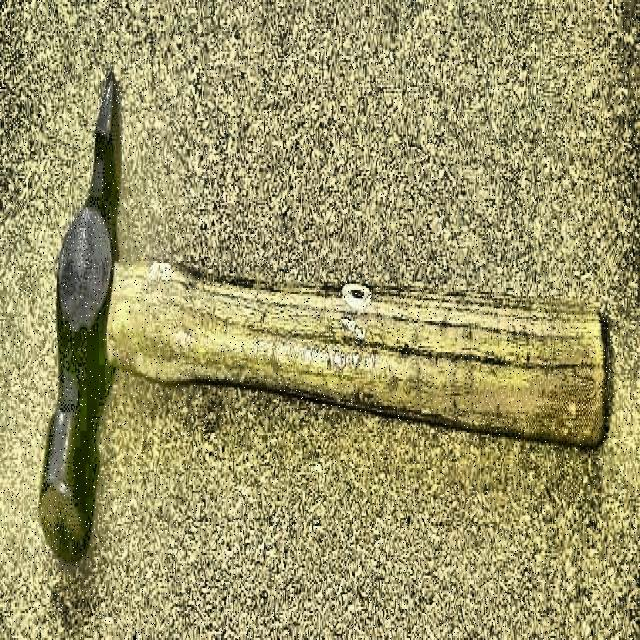hammer: (37, 77, 621, 573)
